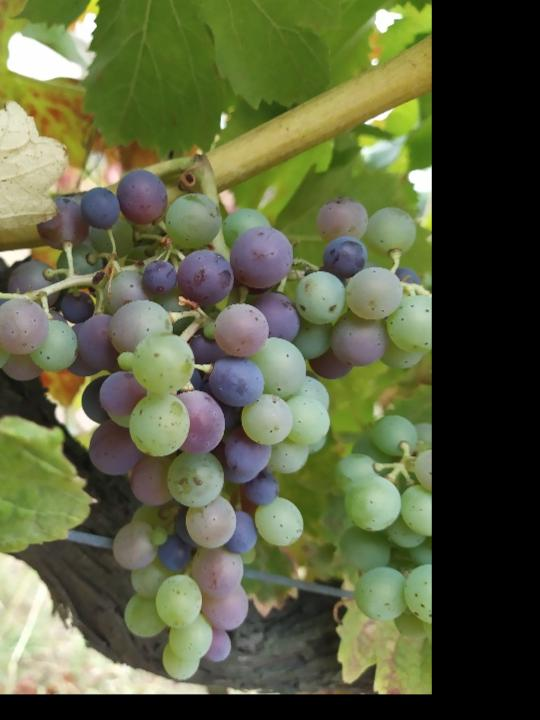grape: (0, 166, 432, 681)
